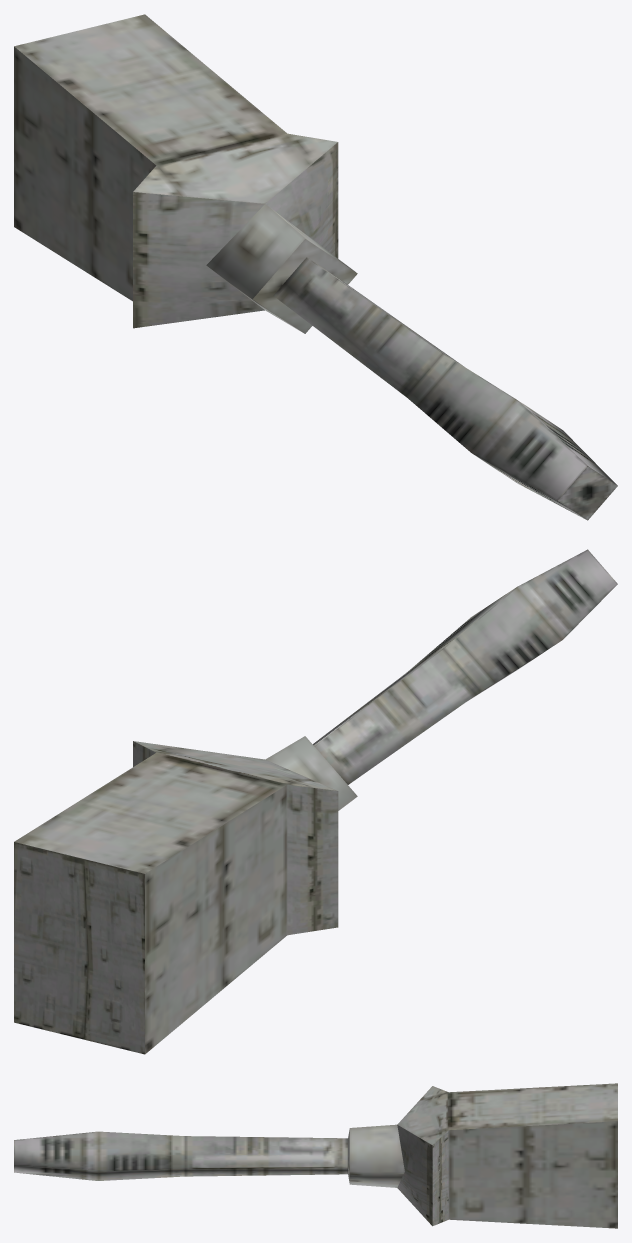
Rendered from ins_all_def_turret_lg_s01_barrel_l2.fbx.
3 renders of one model, top to bottom at view 1: azimuth 30°, elevation 25°; view 2: azimuth 150°, elevation 25°; view 3: azimuth 270°, elevation 25°, orthographic. The views are drawn at different scales.
Parts seen in each view (by area): view 1: mesh_node; view 2: mesh_node; view 3: mesh_node.
Boxes of the visible parts, <box> form: mesh_node: <box>14,14,617,520</box>; mesh_node: <box>14,549,617,1054</box>; mesh_node: <box>14,1083,617,1228</box>.
Size of the model in its own units: 0.8163 by 0.687 by 3.5.
